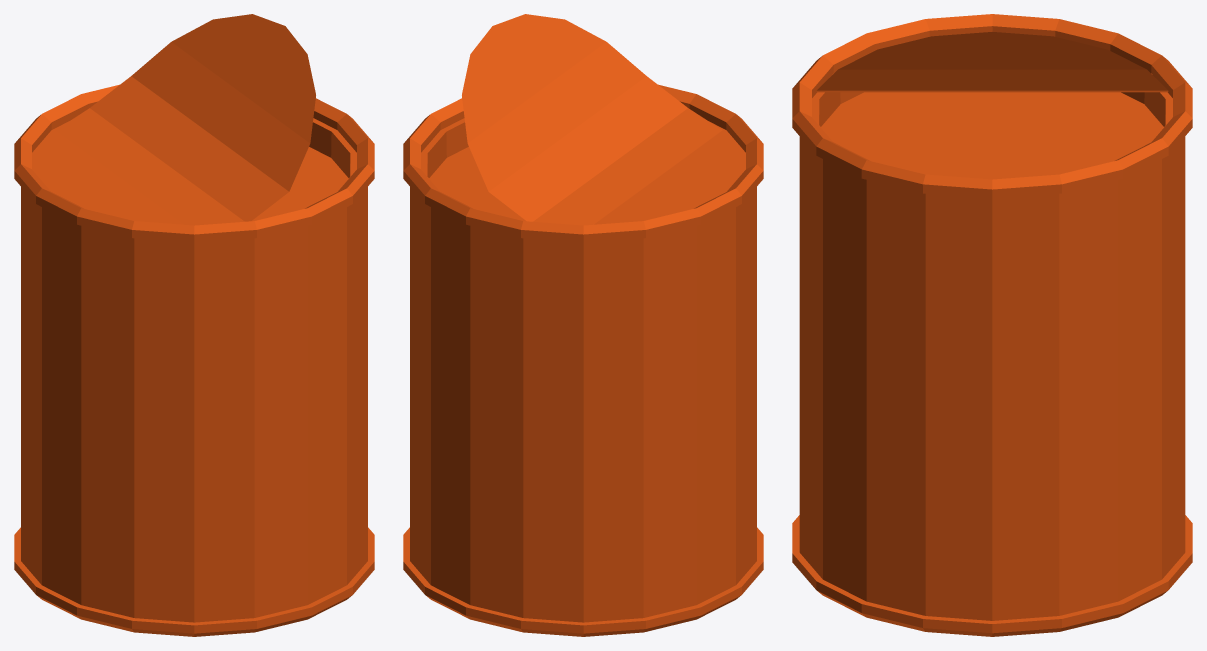
Rendered from can.glb.
3 views of the same model, side by side, from view 1: azimuth 30°, elevation 25°; view 2: azimuth 150°, elevation 25°; view 3: azimuth 270°, elevation 25° (orthographic). The views are drawn at different scales.
Parts seen in each view (by area): view 1: Can; view 2: Can; view 3: Can.
Boxes of the visible parts, x1,y1,x2,y2 form: Can: (14,14,374,636); Can: (403,14,763,636); Can: (792,14,1192,636).
Size of the model in its own units: 0.8305 by 1.29 by 0.8178.
